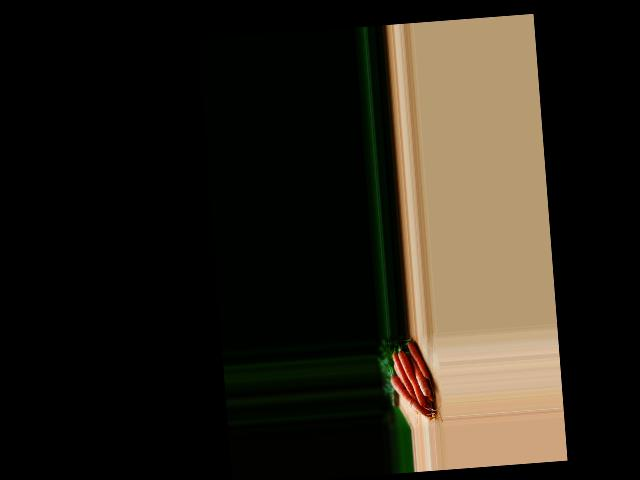carrot: (408, 337, 437, 384)
